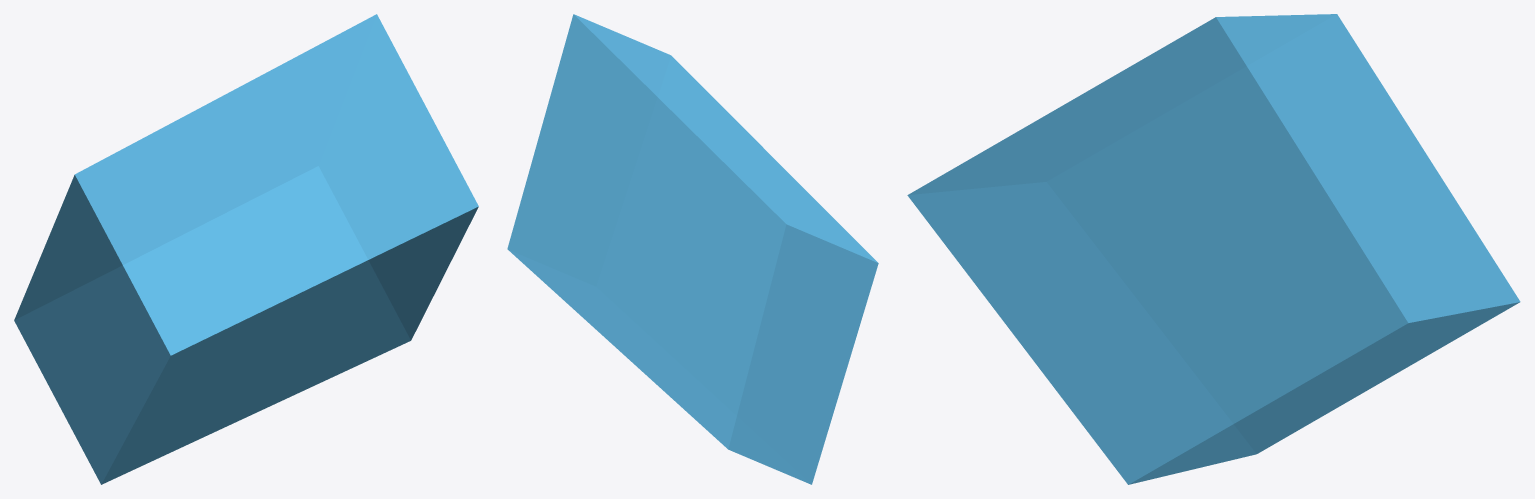
The model's file is Event_421127236_HErechit_9.fbx.
3 views of the same model, side by side, from view 1: azimuth 30°, elevation 25°; view 2: azimuth 150°, elevation 25°; view 3: azimuth 270°, elevation 25° (orthographic). The views are drawn at different scales.
Visible parts, largest first — view 1: Model; view 2: Model; view 3: Model.
Boxes of the visible parts, x1,y1,x2,y2 form: Model: [14, 14, 478, 484]; Model: [507, 14, 878, 484]; Model: [907, 14, 1520, 484].
Bounding box in the file's own units: 0.6517 × 0.9711 × 0.8559.
